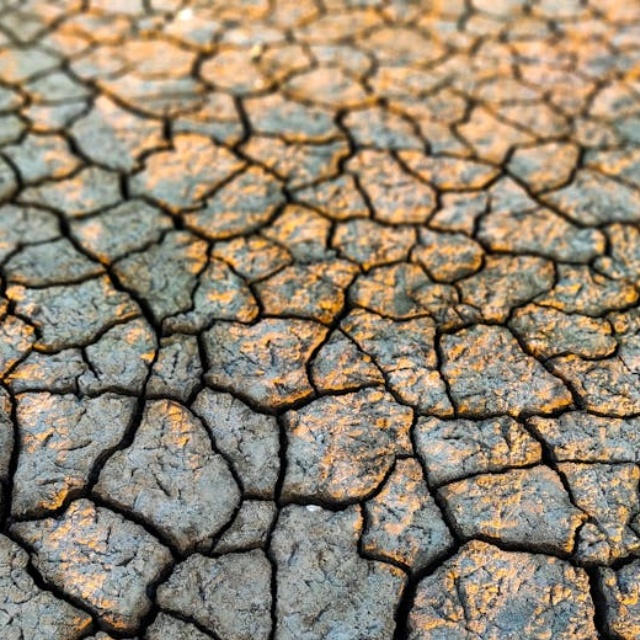网状裂隙: (0, 0, 640, 640), (0, 1, 365, 553)
